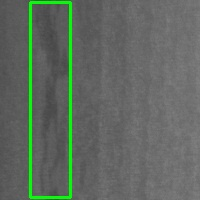inclusion: (30, 2, 70, 197)
